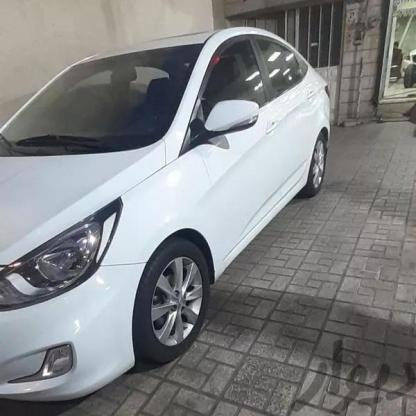Car: (0, 23, 335, 416)
